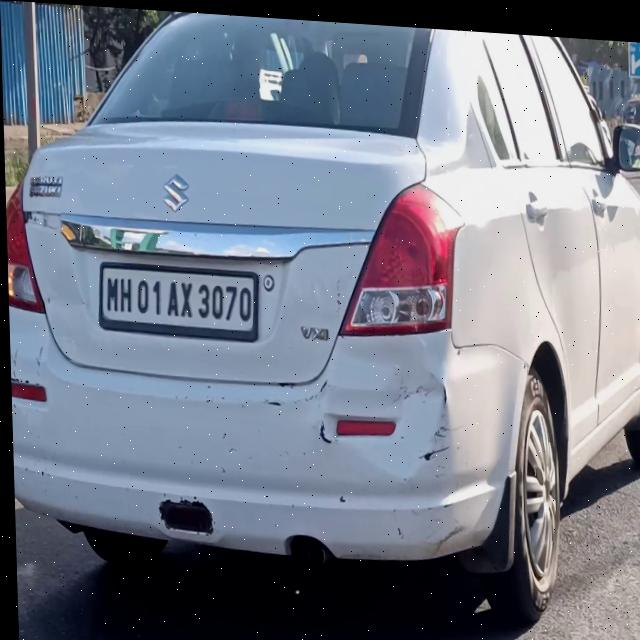plate: (94, 259, 260, 343)
